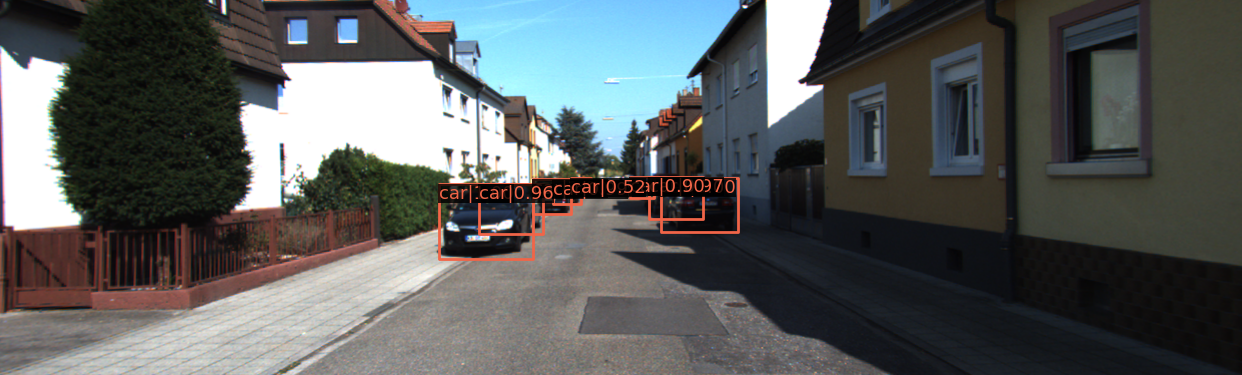car: (443, 186, 531, 253), (669, 180, 739, 233), (475, 183, 542, 236), (532, 183, 570, 215), (632, 179, 654, 199)
